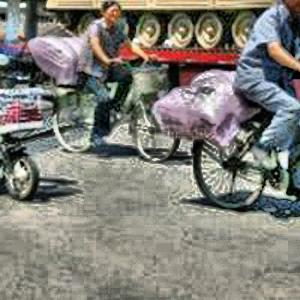tanks: (119, 1, 276, 51), (48, 1, 119, 28)
